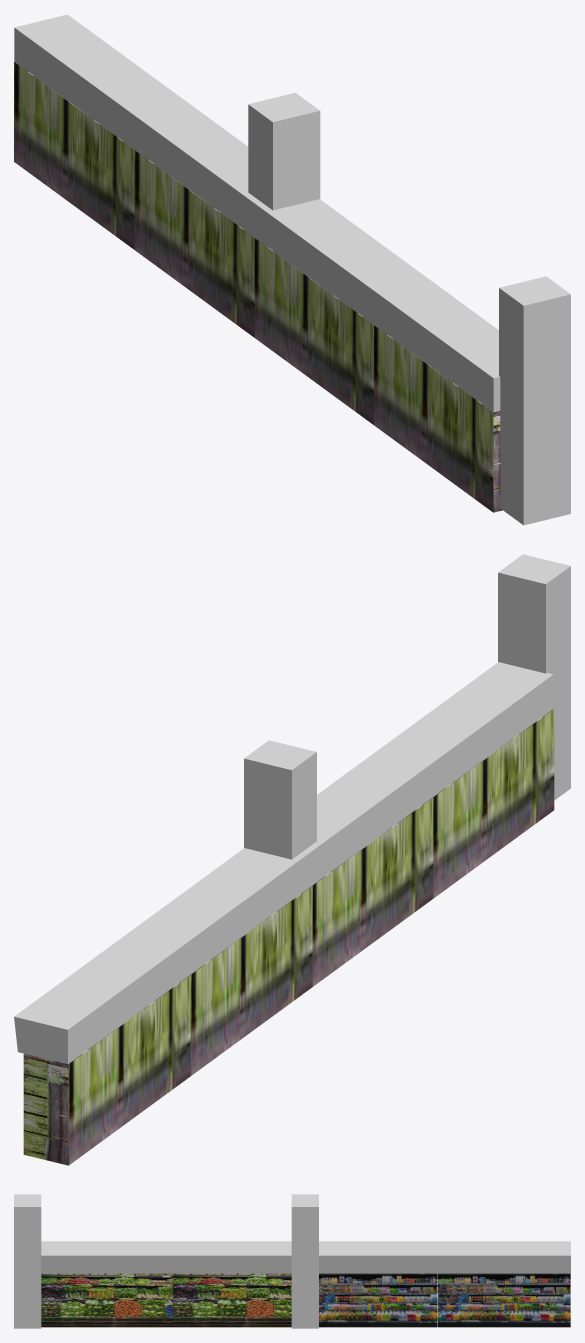
The model's file is Kulkas pack middle.fbx.
The picture shows the model from 3 angles, top to bottom: view 1: azimuth 30°, elevation 25°; view 2: azimuth 150°, elevation 25°; view 3: azimuth 270°, elevation 25°; orthographic projection. The views are drawn at different scales.
Parts seen in each view (by area): view 1: Cube.025, Librero.062, Librero.066, Cube.134, Cube.142; view 2: Cube.025, Librero.066, Librero.062, Cube.134, Cube.142; view 3: Cube.025, Librero.066, Librero.062, Cube.134, Cube.142.
Part boxes in pixels (x1,y1,x2,y2): Cube.025: (14,14,500,412); Librero.062: (254,238,502,512); Librero.066: (14,61,254,337); Cube.134: (499,276,570,525); Cube.142: (248,92,320,210); Cube.025: (14,662,553,1064); Librero.066: (23,885,312,1165); Librero.062: (312,709,554,986); Cube.134: (498,554,570,800); Cube.142: (244,740,316,859); Cube.025: (41,1241,570,1273); Librero.066: (319,1273,570,1327); Librero.062: (41,1273,291,1327); Cube.134: (14,1194,41,1328); Cube.142: (291,1194,318,1328).
Size of the model in its own units: 152 by 597 by 2449.
